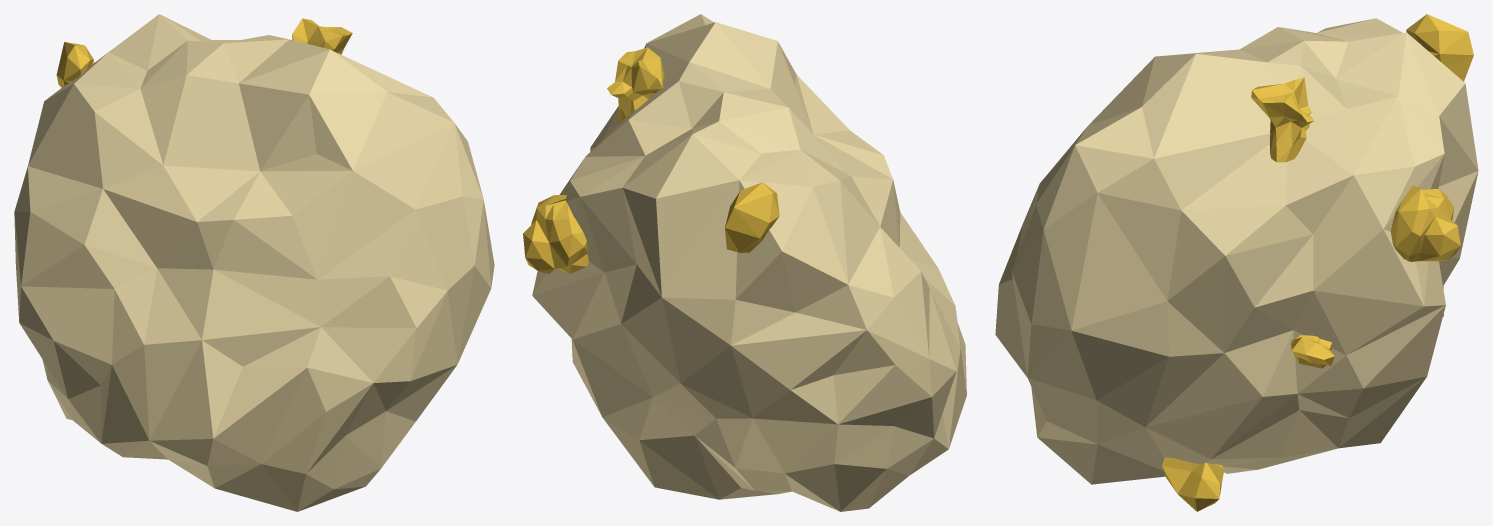
The model's file is MetalOre (63).fbx.
The picture shows the model from 3 angles, left to right: view 1: azimuth 30°, elevation 25°; view 2: azimuth 150°, elevation 25°; view 3: azimuth 270°, elevation 25°; orthographic projection. The views are drawn at different scales.
Visible parts, largest first — view 1: Asteroid354; view 2: Asteroid354; view 3: Asteroid354.
Boxes of the visible parts, left/top/right/bottom form: Asteroid354: left=14, top=14, right=494, bottom=511; Asteroid354: left=523, top=14, right=966, bottom=511; Asteroid354: left=995, top=14, right=1478, bottom=511.
Size of the model in its own units: 424 by 455 by 444.
